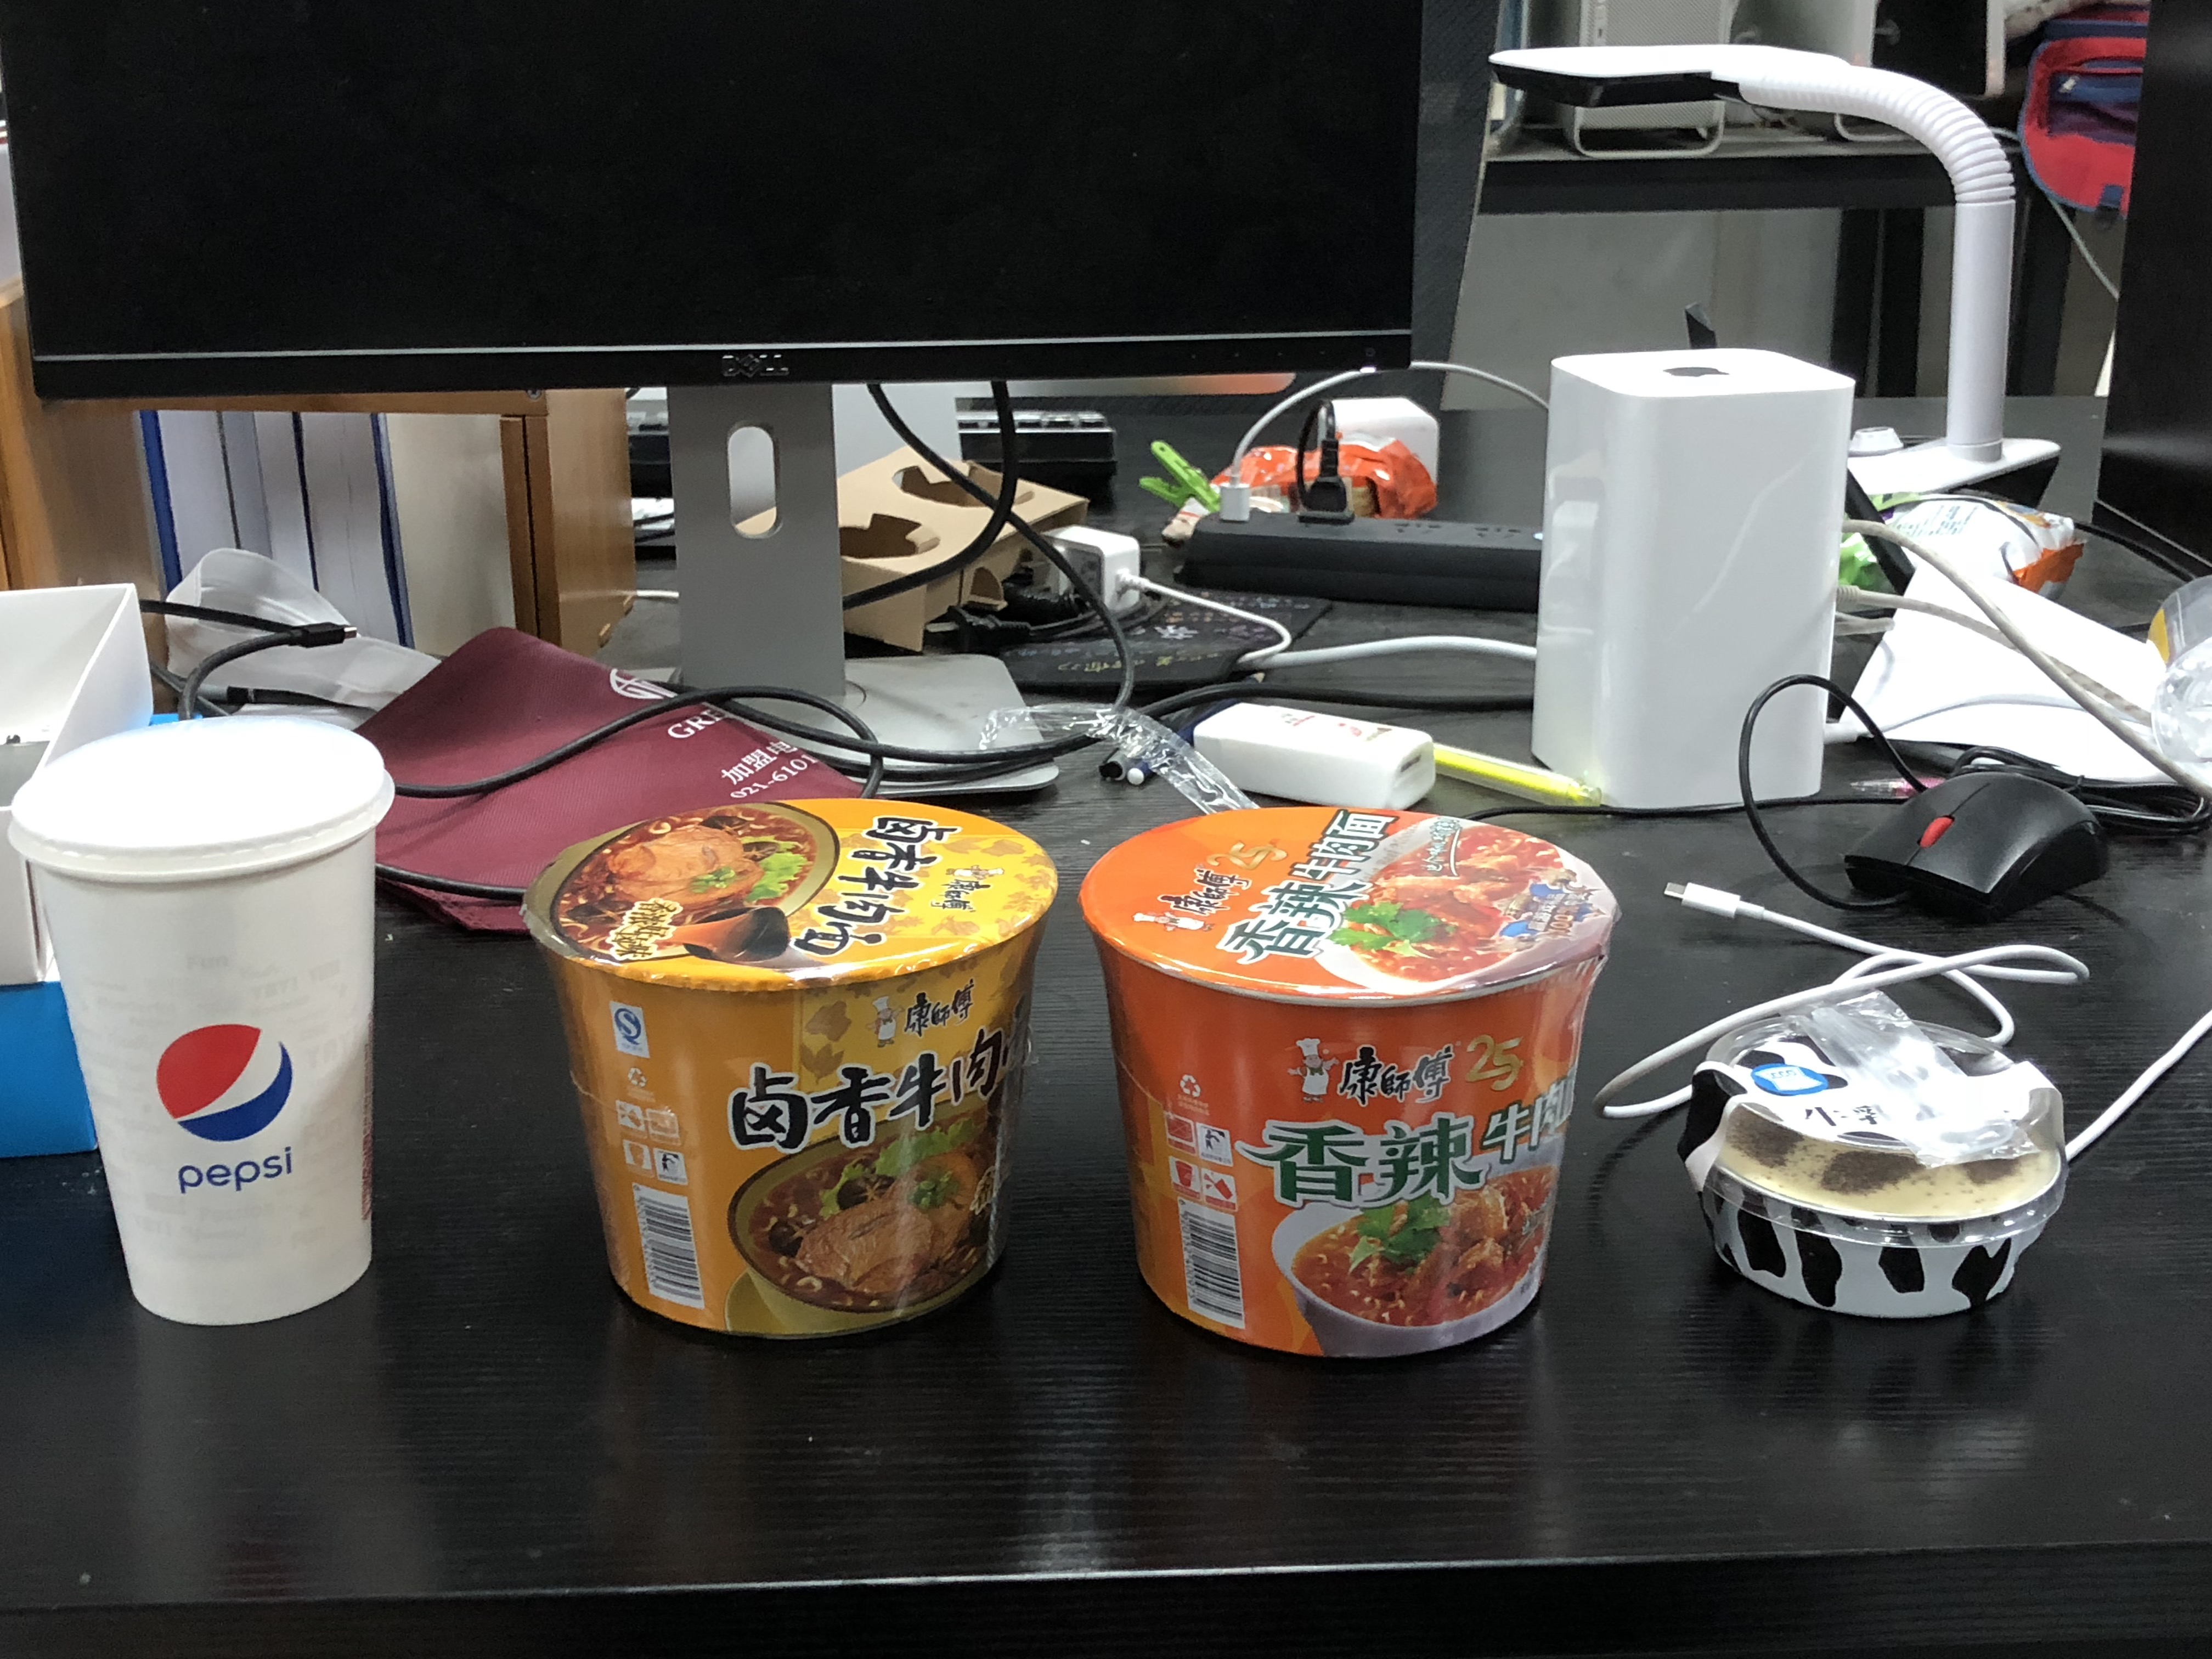luxiang: (517, 795, 1062, 1338)
xiangla: (1076, 802, 1625, 1363)
